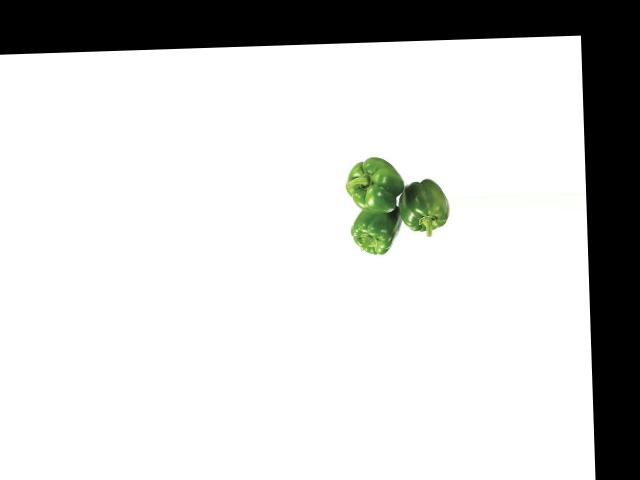bell_pepper: (340, 151, 404, 216)
